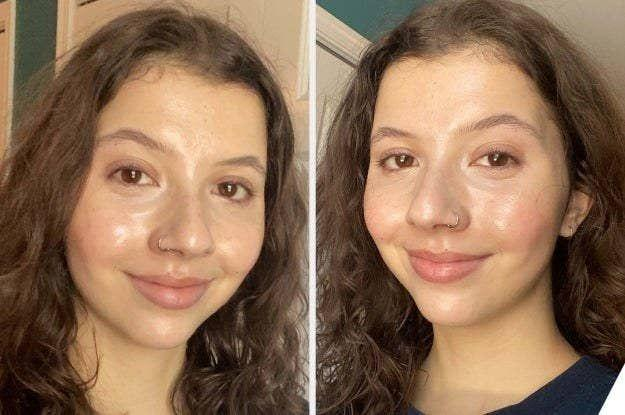Oily-Skin: (106, 210, 154, 246), (216, 228, 249, 273), (182, 140, 206, 182), (148, 309, 174, 346)
